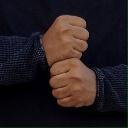hand: (40, 14, 89, 69), (49, 59, 96, 107)
